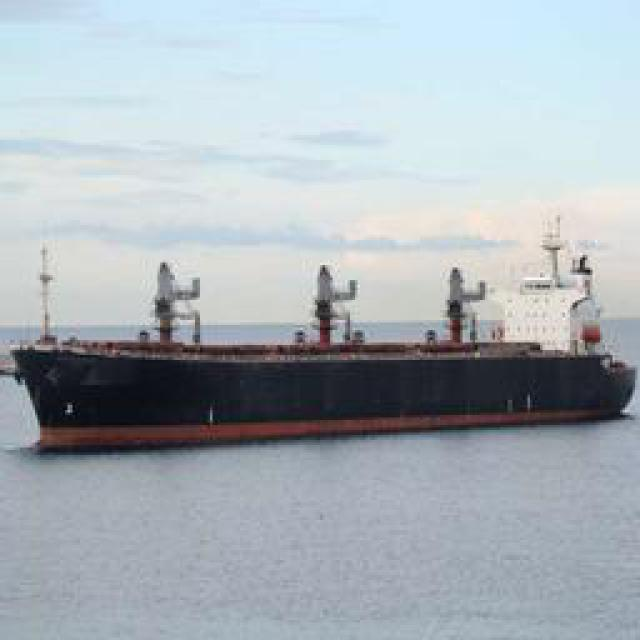Ship: (8, 246, 636, 441)
